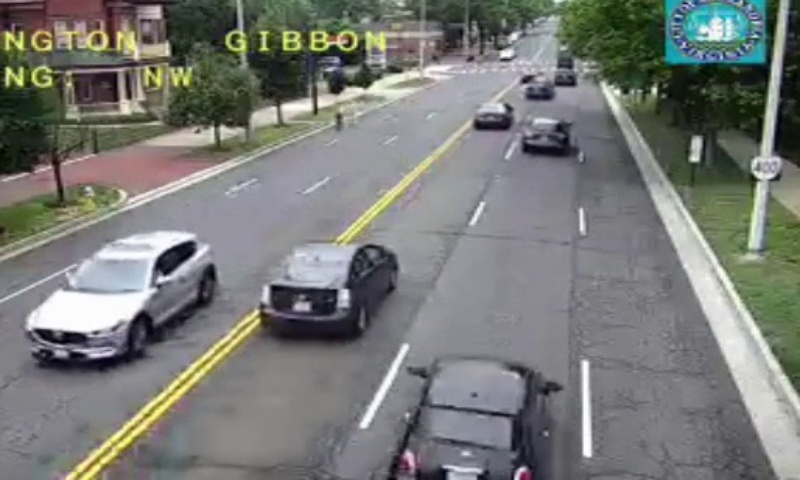car: (389, 357, 546, 480), (261, 244, 398, 330), (522, 117, 568, 152), (473, 101, 510, 128)
